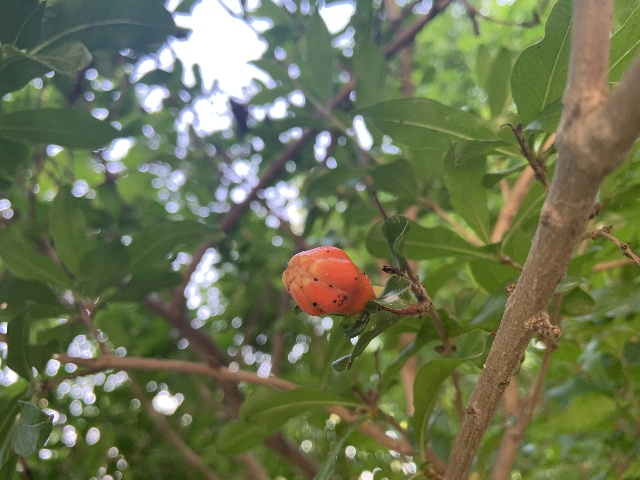bud: (282, 246, 373, 316)
